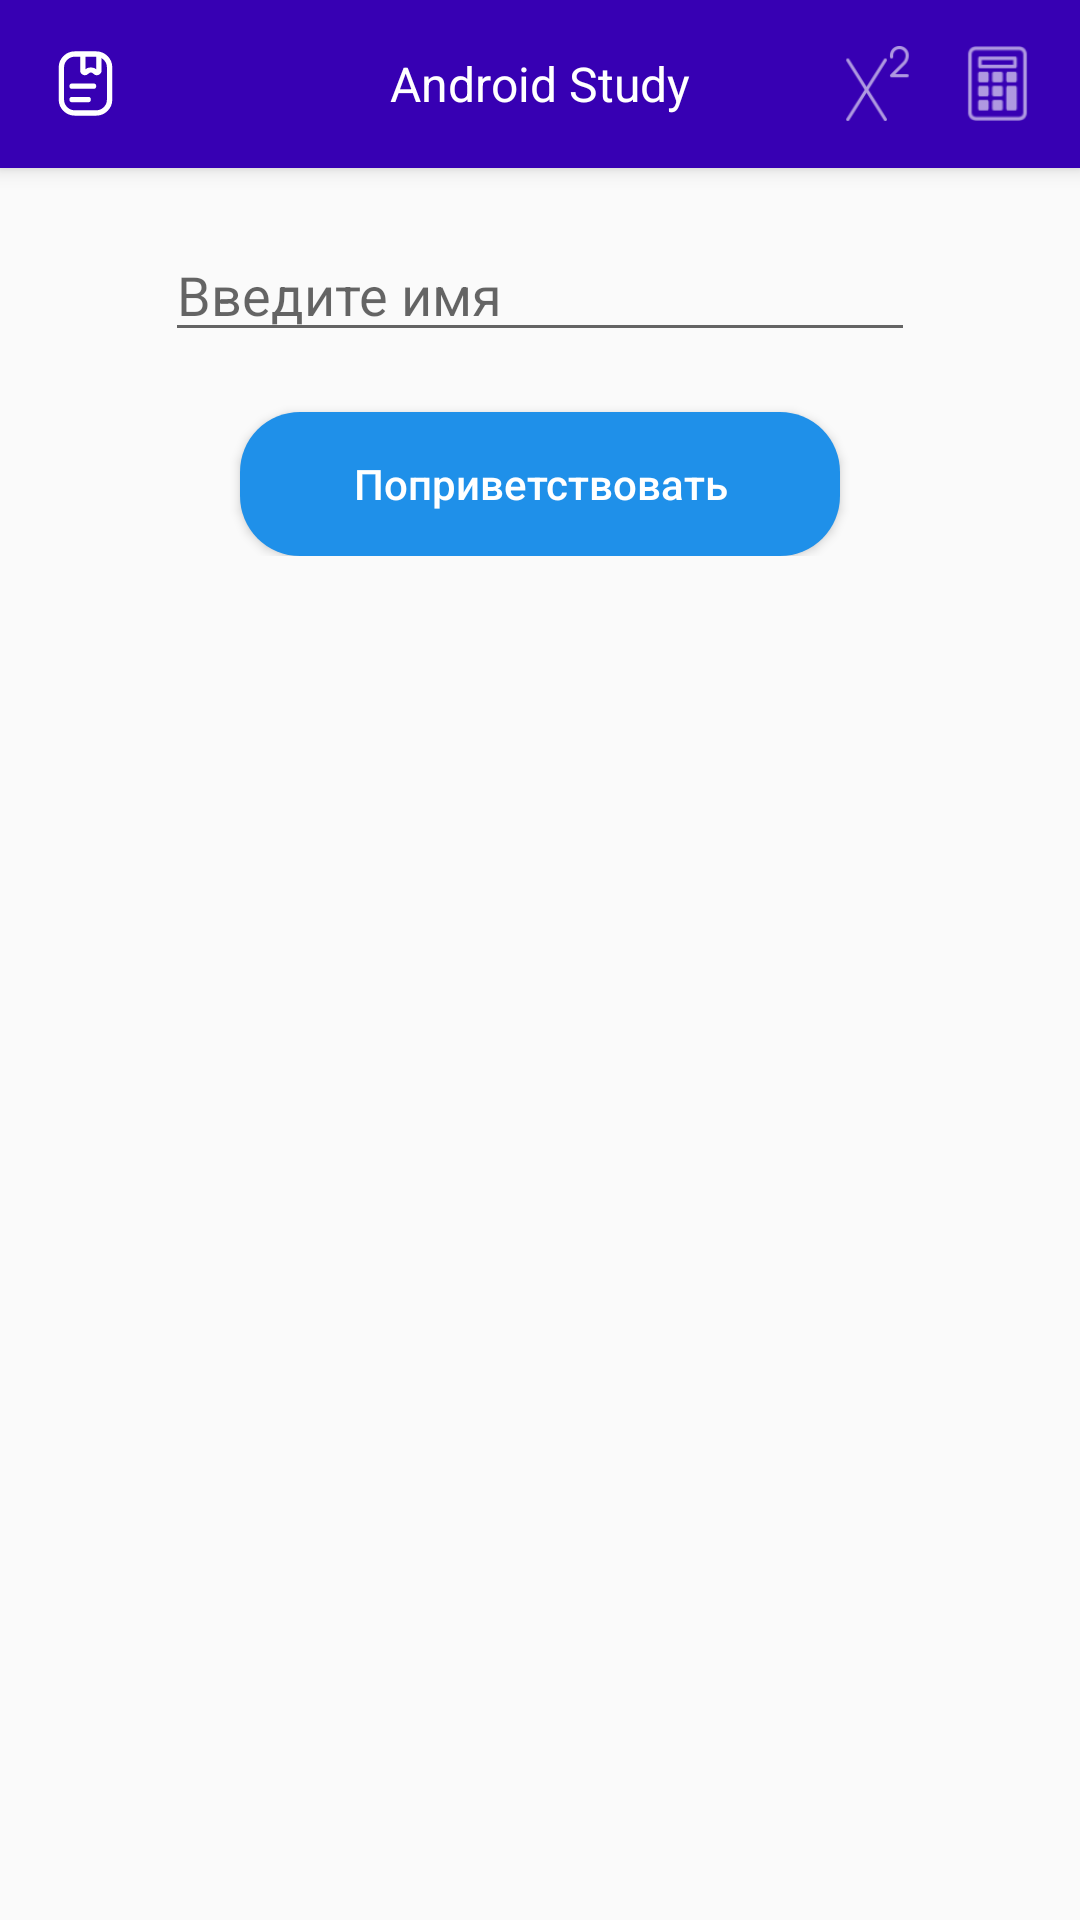

Where to tap for icons on this 1080px×1920px app screen, as (x,y):
calculation: (997,83)
quadratic: (877,83)
